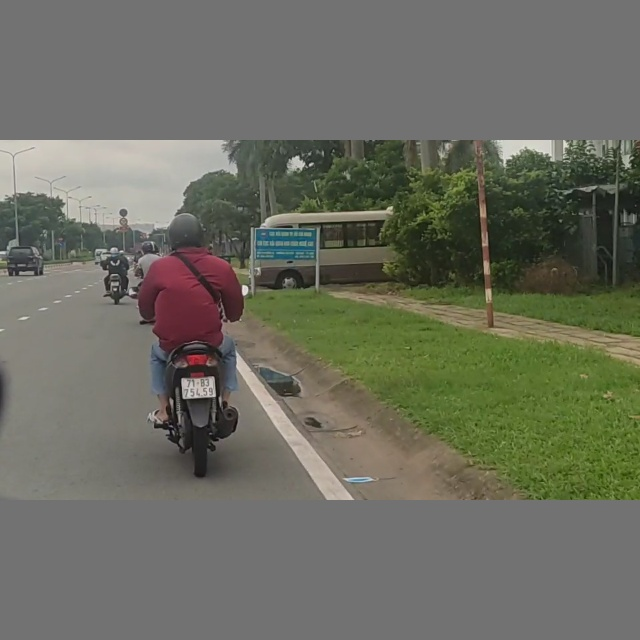P.102: (57, 235, 64, 242)
P.111: (119, 217, 129, 226)
P.130: (120, 208, 128, 217)
R.302a: (58, 241, 64, 247)
